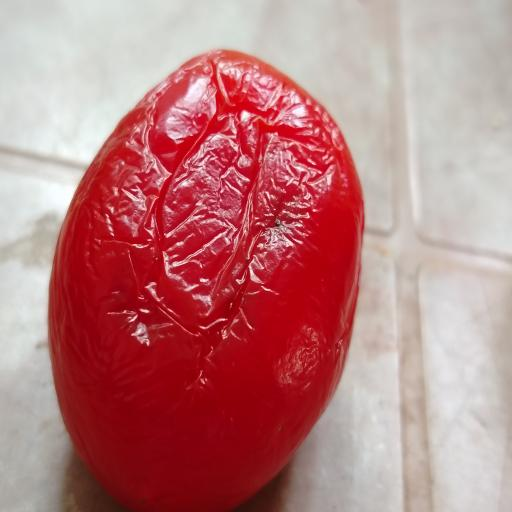spoiled: (49, 51, 364, 512)
